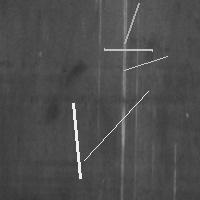scratches: (79, 86, 153, 165), (115, 1, 131, 196), (68, 98, 85, 183), (119, 51, 172, 75), (120, 0, 144, 48), (99, 44, 157, 55)
